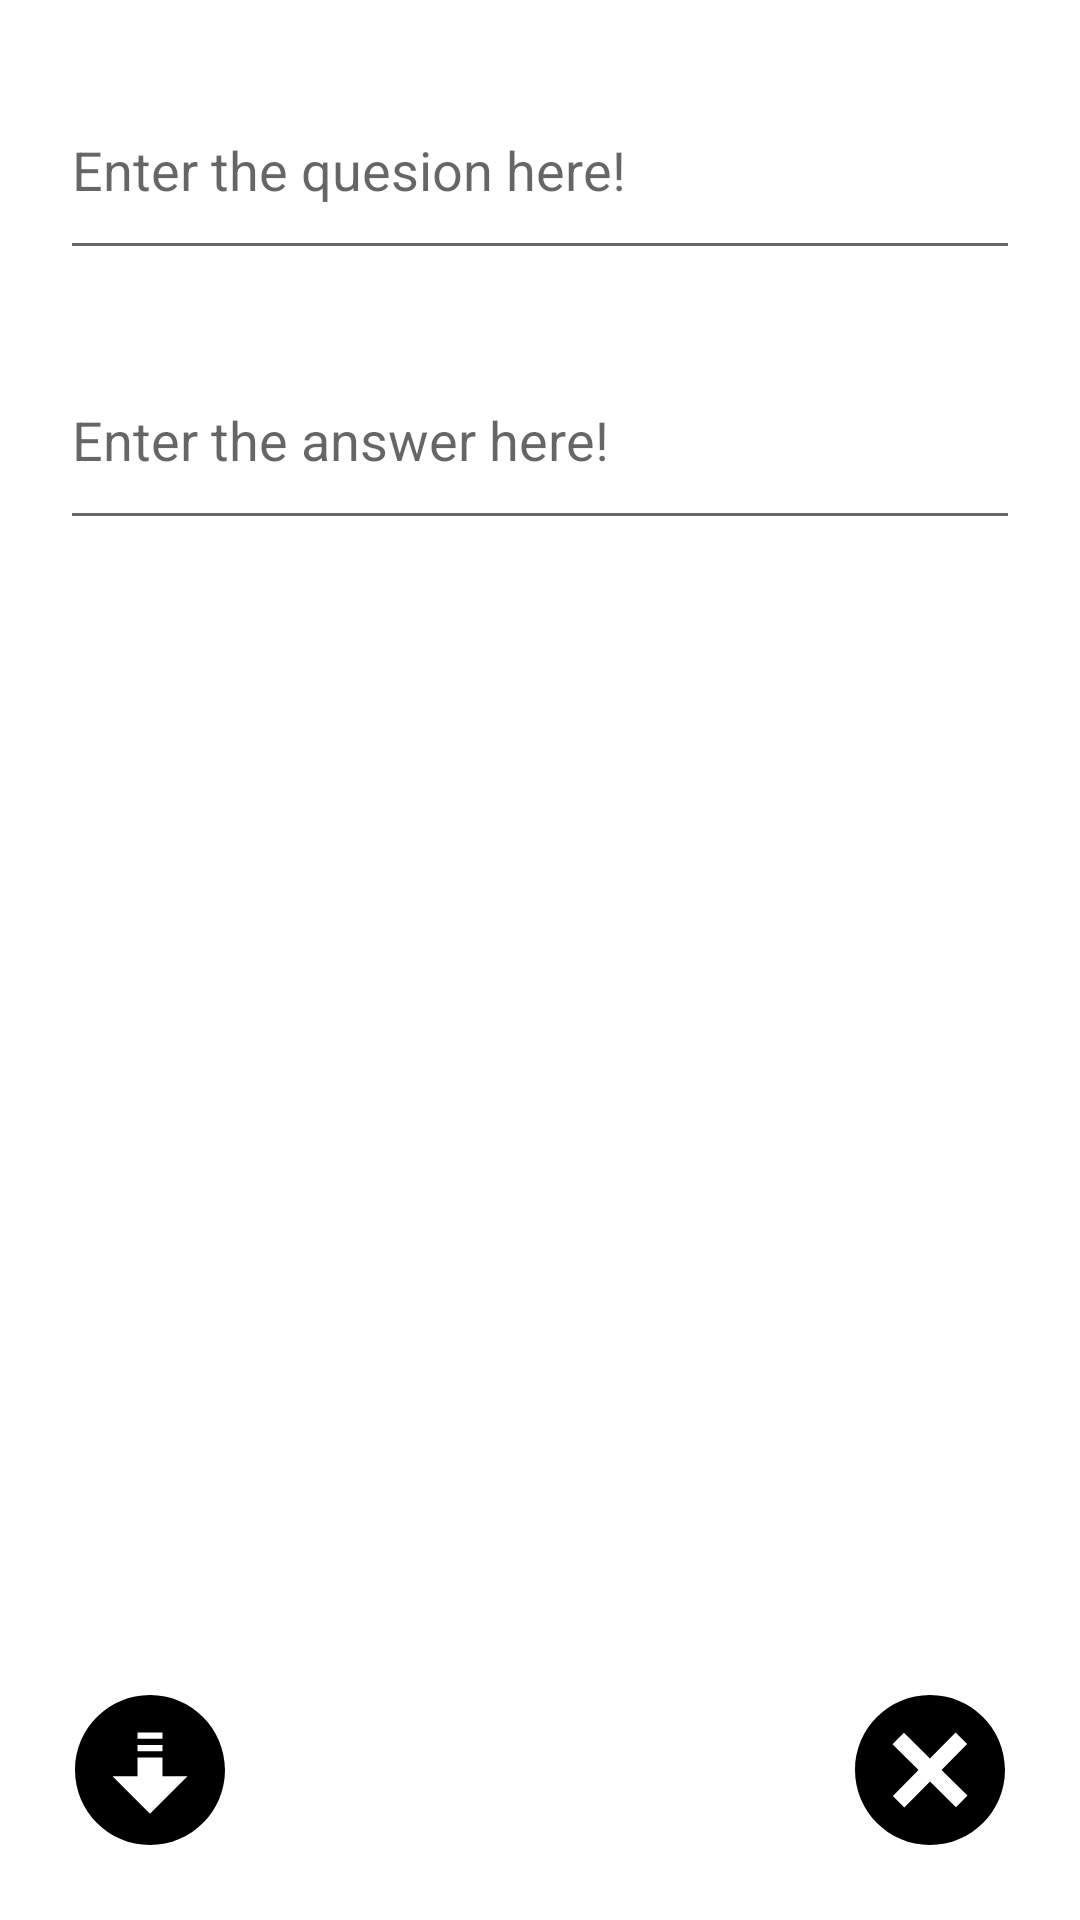

Icon click points for this 1080×1920 phone screenshot, format (x=x, y=y):
cancel: (x=930, y=1770)
save: (x=150, y=1770)
